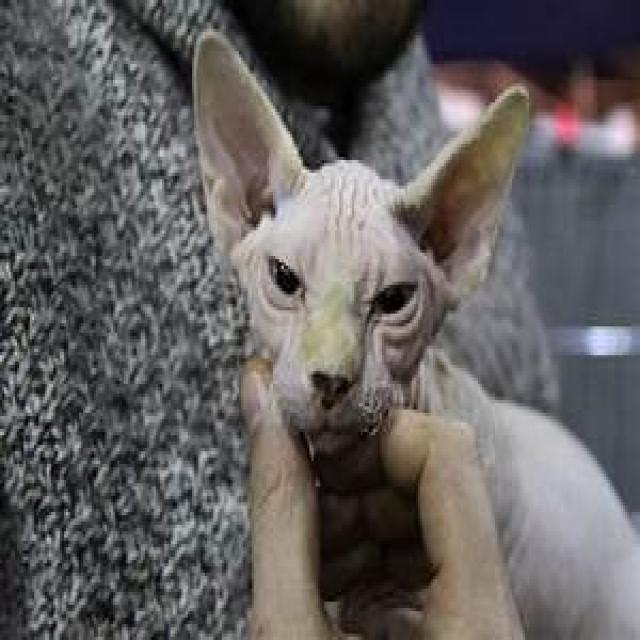animal: (194, 29, 640, 640)
